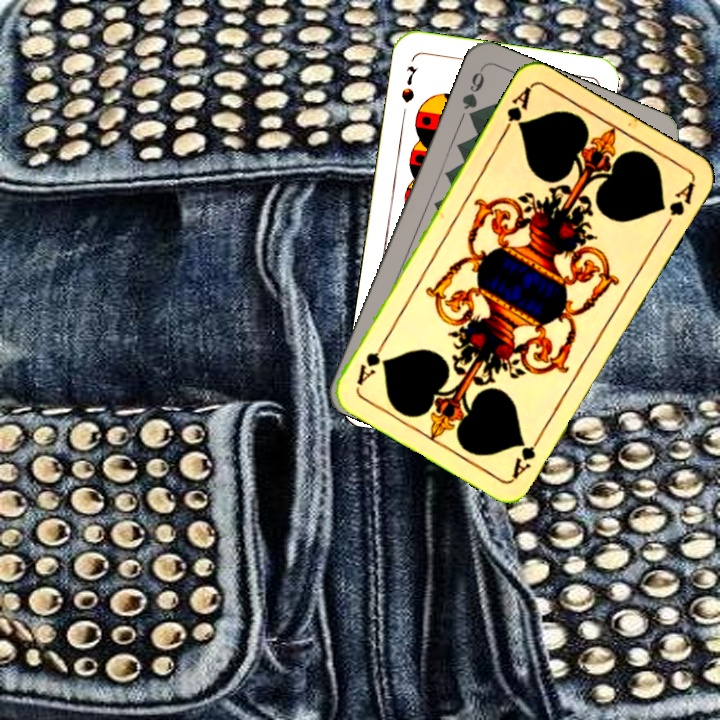G9: (458, 64, 487, 125)
GA: (508, 427, 546, 481), (498, 83, 534, 138)
S7: (397, 61, 420, 106)
